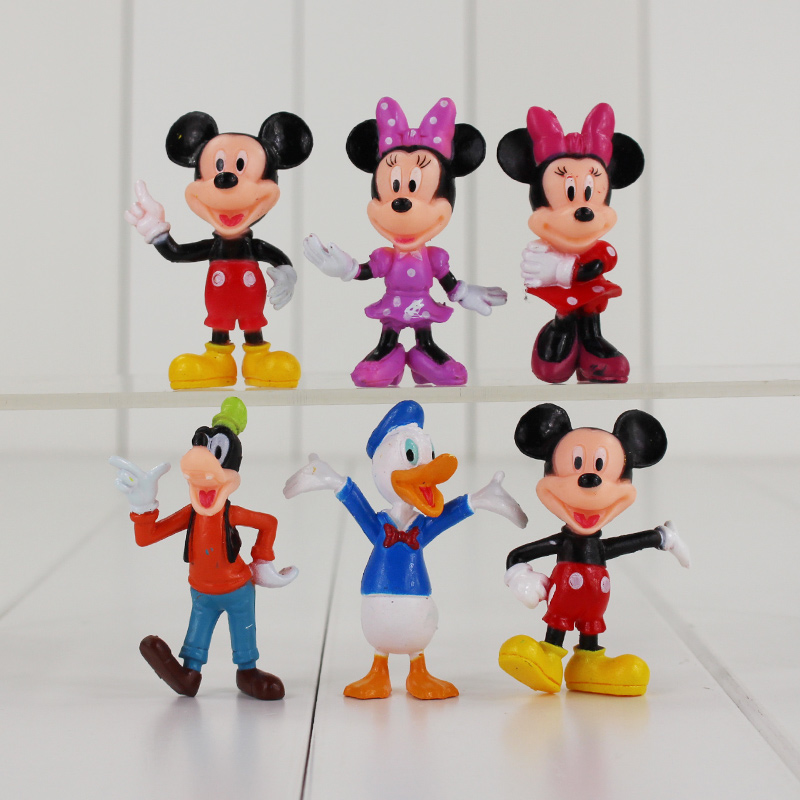Mickey: (511, 403, 671, 540), (165, 102, 316, 241)
